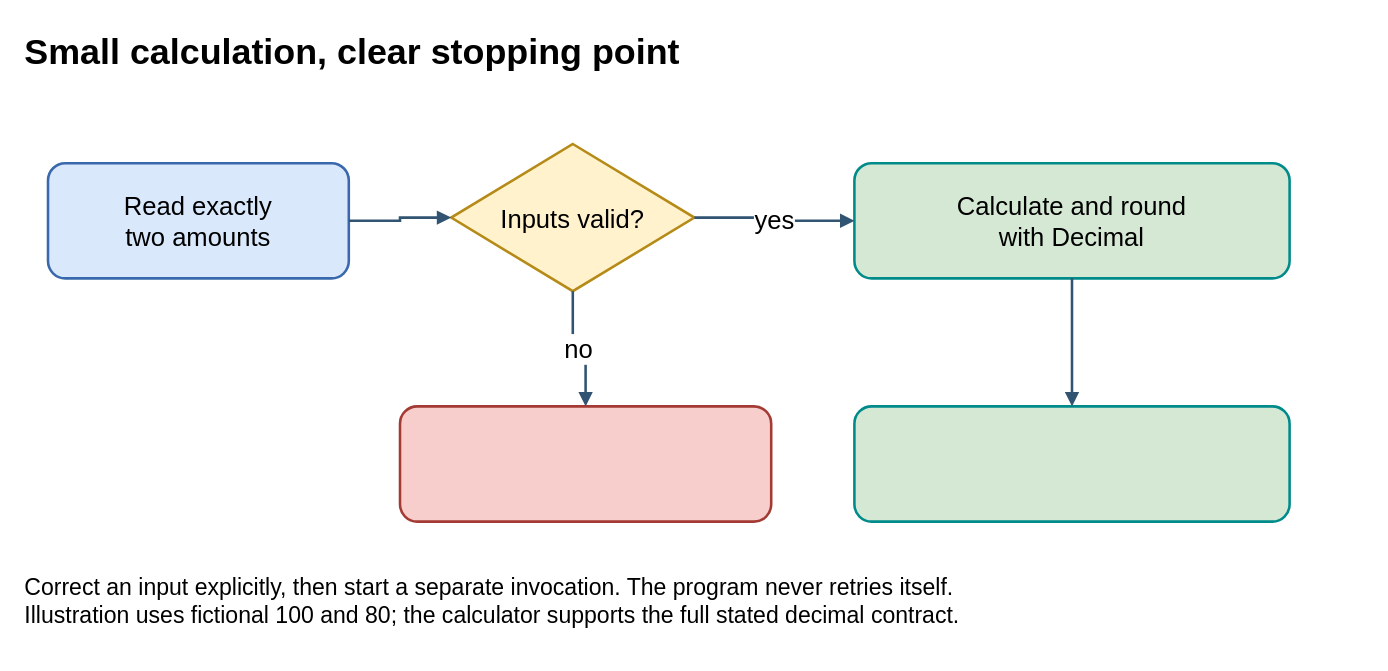
This 1388x671 diagram has some shape labels left out. The shapes that lost their labels are listed below. From the top down, each one's box as (x1, y1, x2, y2) in pixels, then its label:
(398, 404, 772, 522): STOP · exit 2 No result; explain input
(852, 404, 1290, 522): JSON result · exit 0 25% above; 125% of
